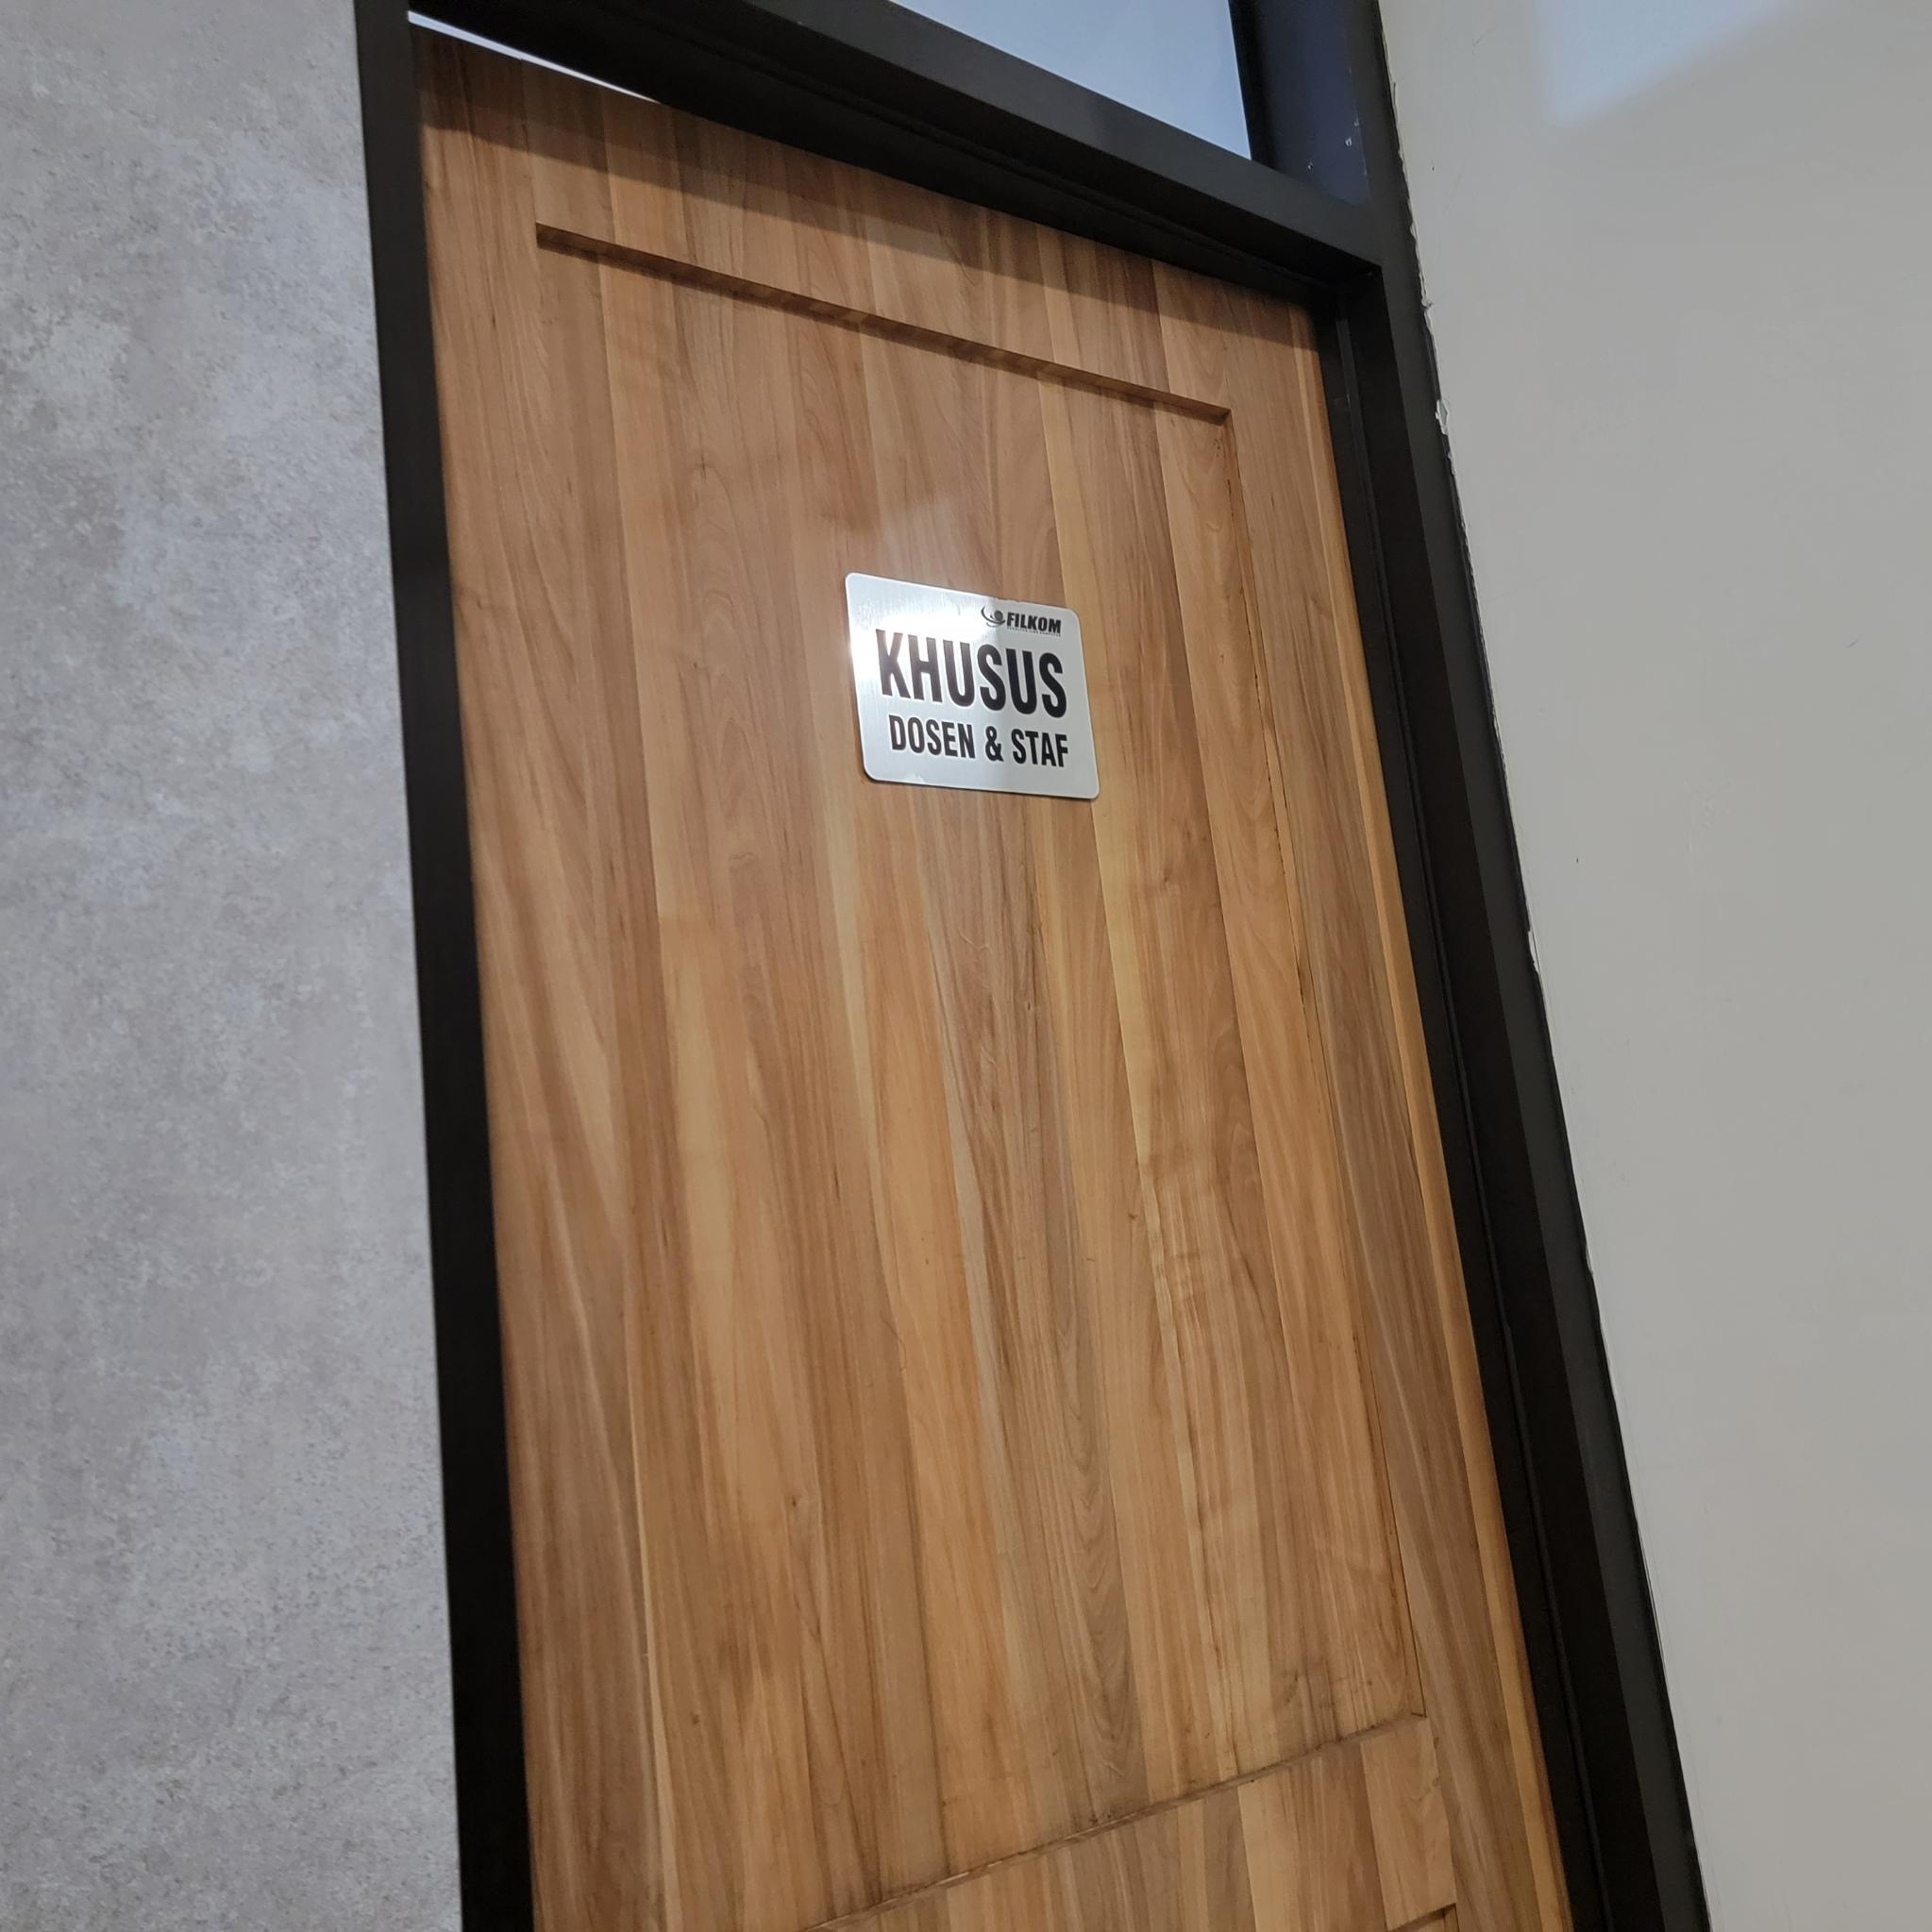plate: (842, 571, 1102, 803)
